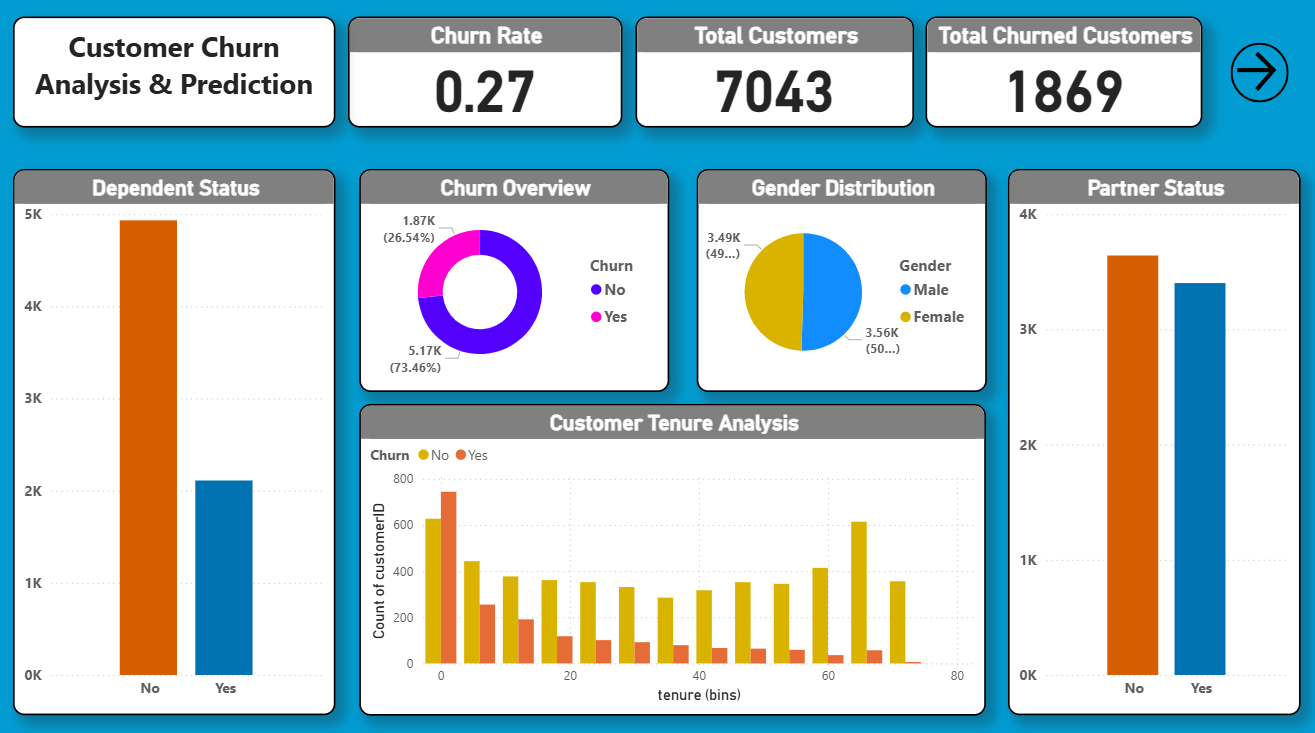

Layout of this report page (visuals, bound fields, positions):
{"tool":"powerbi","page":{"name":"Customer Overview","canvas":[1280,720],"ordinal":0},"visuals":[{"type":"card","title":"Churn Rate","fields":{"Values":["Churn_dataset.Churn Rate"]},"box":[343.1,22,264.8,107],"z":0},{"type":"card","title":"Total Customers","fields":{"Values":["CountNonNull(Churn_dataset.customerID)"]},"box":[620.2,22,269,107],"z":1000},{"type":"card","title":"Total Churned Customers","fields":{"Values":["Churn_dataset.Churn Count"]},"box":[900.2,22,267.6,107],"z":2000},{"type":"donutChart","title":"Churn Overview","fields":{"Category":["Churn_dataset.Churn"],"Y":["CountNonNull(Churn_dataset.customerID)"]},"box":[354,168.8,299.1,215.4],"z":3000},{"type":"pieChart","title":"Gender Distribution","fields":{"Category":["Churn_dataset.gender"],"Y":["CountNonNull(Churn_dataset.customerID)"]},"box":[679.2,168.8,279.9,215.4],"z":4000},{"type":"clusteredColumnChart","title":"Partner Status","fields":{"Category":["Churn_dataset.Partner"],"Y":["CountNonNull(Churn_dataset.customerID)"]},"box":[979.8,168.8,282.7,526.9],"z":5000},{"type":"clusteredColumnChart","title":"Dependent Status","fields":{"Category":["Churn_dataset.Dependents"],"Y":["CountNonNull(Churn_dataset.customerID)"]},"box":[19.2,168.8,311.5,526.9],"z":6000},{"type":"clusteredColumnChart","title":"Customer Tenure Analysis","fields":{"Category":["Churn_dataset.tenure (bins)"],"Y":["CountNonNull(Churn_dataset.customerID)"],"Series":["Churn_dataset.Churn"]},"box":[354,395.2,605.1,300.5],"z":7000},{"type":"textbox","box":[19.2,22,311.5,107],"z":8000},{"type":"shape","box":[1193.8,46.7,56.3,57.6],"z":9000},{"type":"actionButton","box":[1193.8,50.8,57.6,48],"z":10000}]}

Visuals, with their boxes in screenshot pixels (x1, y1, x2, y2), scaled from the page's 1280x720 canvas onto the 1315x733 screenshot:
"Churn Rate" card: bbox(352, 22, 625, 131)
"Total Customers" card: bbox(637, 22, 914, 131)
"Total Churned Customers" card: bbox(925, 22, 1200, 131)
"Churn Overview" donutChart: bbox(364, 172, 671, 391)
"Gender Distribution" pieChart: bbox(698, 172, 985, 391)
"Partner Status" clusteredColumnChart: bbox(1007, 172, 1297, 708)
"Dependent Status" clusteredColumnChart: bbox(20, 172, 340, 708)
"Customer Tenure Analysis" clusteredColumnChart: bbox(364, 402, 985, 708)
textbox: bbox(20, 22, 340, 131)
shape: bbox(1226, 48, 1284, 106)
actionButton: bbox(1226, 52, 1286, 101)
